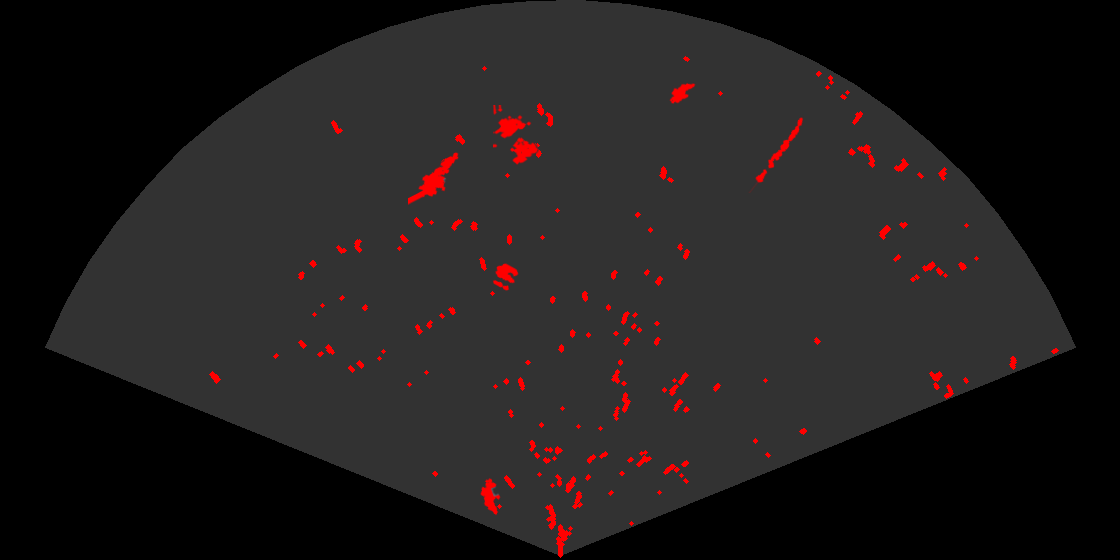AUV: (479, 476, 502, 517), (668, 81, 697, 105)
ball: (491, 262, 520, 292)
cage: (493, 105, 540, 166)
chain: (748, 116, 805, 193)
frogman: (408, 151, 460, 205)
